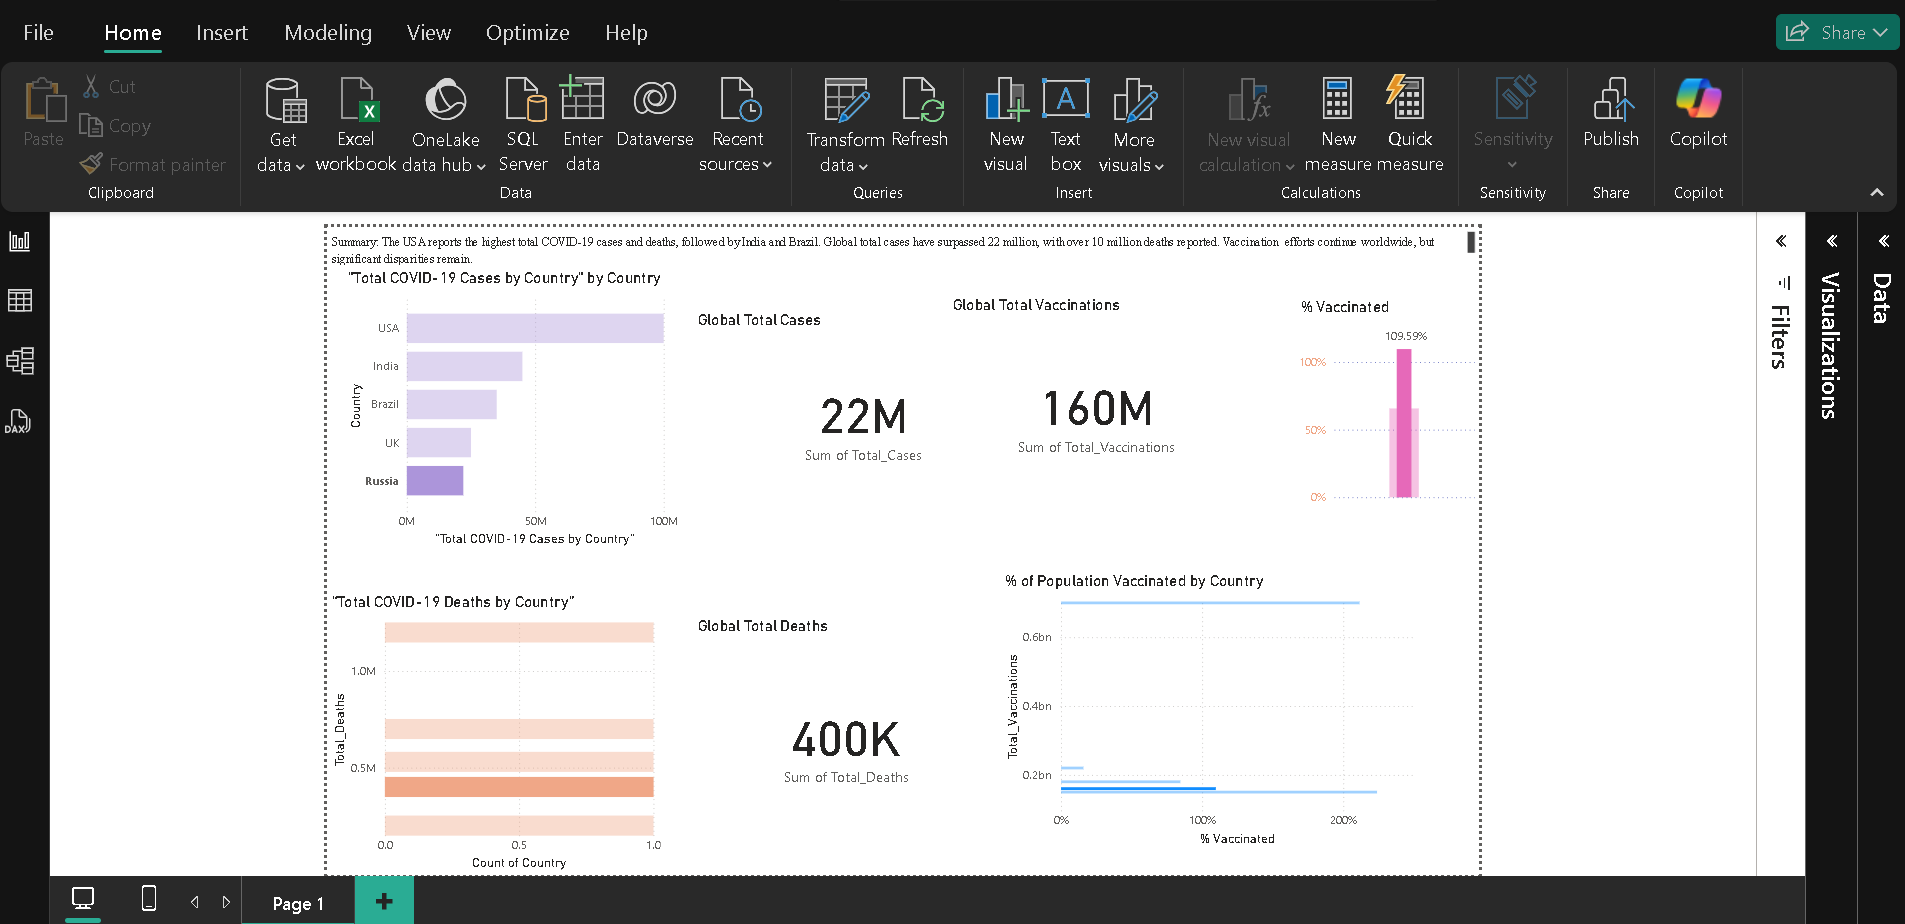

This screenshot's page, from the dashboard's own definition file:
{"tool":"powerbi","page":{"name":"Page 1","canvas":[1280,720],"ordinal":0},"visuals":[{"type":"clusteredBarChart","fields":{"Category":["Sheet1.Country"],"Y":["Sum(Sheet1.Total_Cases)"]},"box":[17.5,47.4,375.4,312.3],"z":0},{"type":"clusteredBarChart","title":"“Total COVID-19 Deaths by Country”","fields":{"Category":["Sheet1.Total_Deaths"],"Y":["CountNonNull(Sheet1.Country)"]},"box":[0,407,375.4,312.3],"z":1},{"type":"card","title":"Global Total Deaths","fields":{"Values":["Sum(Sheet1.Total_Deaths)"]},"box":[407,433.3,340.4,257.9],"z":3},{"type":"card","title":"Global Total Cases","fields":{"Values":["Sum(Sheet1.Total_Cases)"]},"box":[407,93,377.2,221.1],"z":4},{"type":"card","title":"Global Total Vaccinations","fields":{"Values":["Sum(Sheet1.Total_Vaccinations)"]},"box":[690,76.7,330,236.7],"z":5},{"type":"textbox","box":[0,0,1280,46.7],"z":7},{"type":"clusteredBarChart","title":"% of Population Vaccinated by Country","fields":{"Category":["Sheet1.Total_Vaccinations"],"Y":["Sheet1.% Vaccinated"]},"box":[748,384,478,308],"z":8},{"type":"clusteredColumnChart","fields":{"Y":["Sheet1.% Vaccinated"]},"box":[1076.7,78.3,203.3,236.7],"z":9}]}

Visuals, with their boxes on the page's 1280x720 design canvas (x1, y1, x2, y2). These are canvas units, not pixel positions in the 1905x924 screenshot, which may show the page scaled, cropped or inside an application window:
clusteredBarChart - Sheet1.Country x Sum(Sheet1.Total_Cases): pyautogui.locateOnScreen(18, 47, 393, 360)
"“Total COVID-19 Deaths by Country”" clusteredBarChart: pyautogui.locateOnScreen(0, 407, 375, 719)
"Global Total Deaths" card: pyautogui.locateOnScreen(407, 433, 747, 691)
"Global Total Cases" card: pyautogui.locateOnScreen(407, 93, 784, 314)
"Global Total Vaccinations" card: pyautogui.locateOnScreen(690, 77, 1020, 313)
textbox: pyautogui.locateOnScreen(0, 0, 1280, 47)
"% of Population Vaccinated by Country" clusteredBarChart: pyautogui.locateOnScreen(748, 384, 1226, 692)
clusteredColumnChart - Sheet1.% Vaccinated: pyautogui.locateOnScreen(1077, 78, 1280, 315)
